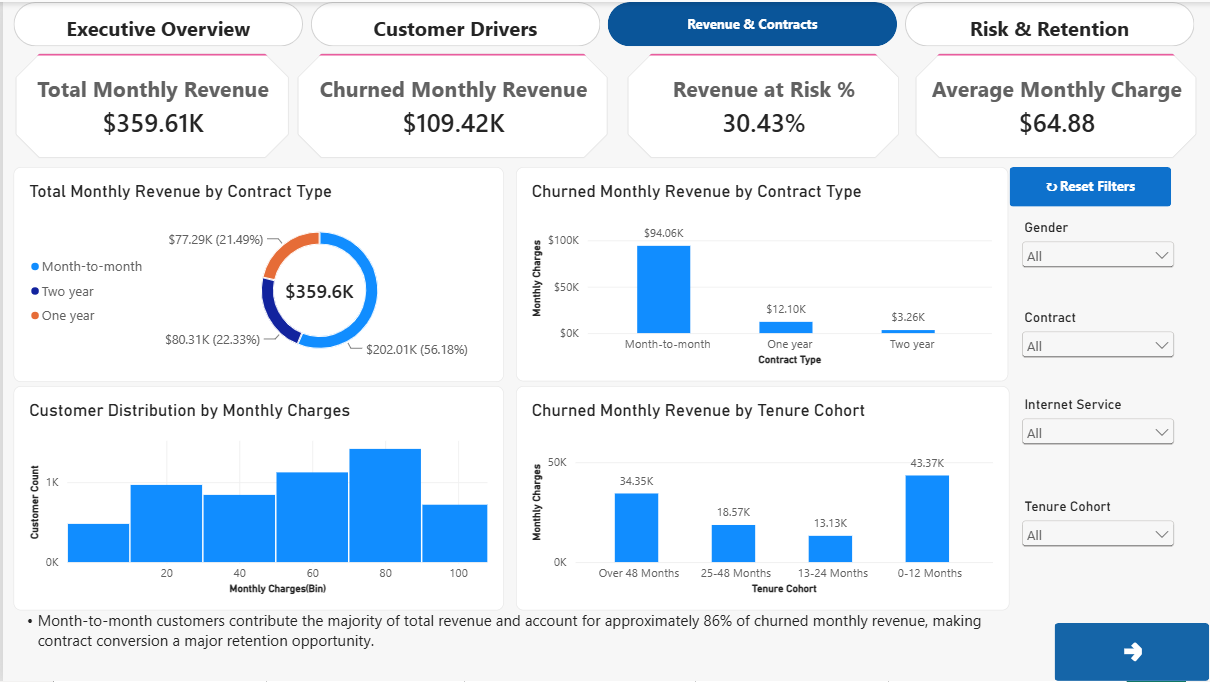

Layout of this report page (visuals, bound fields, positions):
{"tool":"powerbi","page":{"name":"Revenue & Contracts","canvas":[1280,720],"ordinal":2},"visuals":[{"type":"cardVisual","title":"Total Monthly Revenue","fields":{"Data":["_Measures.Total Monthly Revenue"]},"box":[12.2,54.2,291.1,112.9],"z":0},{"type":"cardVisual","title":"Churned Monthly Revenue","fields":{"Data":["_Measures.Churned Monthly Revenue"]},"box":[311.2,54.2,330.8,112.9],"z":1000},{"type":"cardVisual","title":"Revenue at Risk %","fields":{"Data":["_Measures.Revenue at Risk %"]},"box":[661.2,54.2,289.5,112.9],"z":2000},{"type":"cardVisual","title":"Average Monthly Charge","fields":{"Data":["_Measures.Average Monthly Charge"]},"box":[966.6,54.2,299,112.9],"z":3000},{"type":"donutChart","title":"Total Monthly Revenue by Contract Type","fields":{"Category":["telecom_churn vw_customer_churn_analysis.contract_type"],"Y":["_Measures.Total Monthly Revenue"]},"box":[11.1,175,520.1,228],"z":4000},{"type":"clusteredColumnChart","title":"Churned Monthly Revenue by Contract Type","fields":{"Category":["telecom_churn vw_customer_churn_analysis.contract_type"],"Y":["_Measures.Churned Monthly Revenue"]},"box":[544,175,521.7,227.5],"z":5000},{"type":"clusteredColumnChart","title":"Churned Monthly Revenue by Tenure Cohort","fields":{"Y":["_Measures.Churned Monthly Revenue"],"Category":["telecom_churn vw_customer_churn_analysis.tenure_cohort"]},"box":[544.1,406.4,523,238],"z":6000},{"type":"clusteredColumnChart","title":"Customer Distribution by Monthly Charges","fields":{"Category":["telecom_churn vw_customer_churn_analysis.monthly_charges (bins)"],"Y":["CountNonNull(telecom_churn vw_customer_churn_analysis.customer_id)"]},"box":[11.3,406.4,519.8,238],"z":7000},{"type":"pageNavigator","box":[11.1,0,1253.4,47.7],"z":8000},{"type":"actionButton","box":[1115.6,659,165.2,61.5],"z":9000},{"type":"textbox","box":[13,644.5,1062.2,76.1],"z":10000},{"type":"slicer","title":"Gender","fields":{"Values":["telecom_churn vw_customer_churn_analysis.Gender"]},"box":[1075.2,229.9,171.6,81],"z":11000},{"type":"slicer","title":"Gender","fields":{"Values":["telecom_churn vw_active_customer_risk.contract_type"]},"box":[1075.2,325.5,171.6,81],"z":12000},{"type":"slicer","title":"Gender","fields":{"Values":["telecom_churn vw_active_customer_risk.internet_service"]},"box":[1075.2,417.8,171.6,81],"z":13000},{"type":"slicer","title":"Gender","fields":{"Values":["telecom_churn vw_active_customer_risk.tenure_cohort"]},"box":[1075.2,526.2,171.6,81],"z":14000},{"type":"actionButton","box":[1067.1,174.9,171.6,42.1],"z":15000}]}

Visuals, with their boxes in screenshot pixels (x1, y1, x2, y2), scaled from the page's 1280x720 canvas onto the 1210x682 screenshot:
"Total Monthly Revenue" cardVisual: rect(12, 51, 287, 158)
"Churned Monthly Revenue" cardVisual: rect(294, 51, 607, 158)
"Revenue at Risk %" cardVisual: rect(625, 51, 899, 158)
"Average Monthly Charge" cardVisual: rect(914, 51, 1196, 158)
"Total Monthly Revenue by Contract Type" donutChart: rect(10, 166, 502, 382)
"Churned Monthly Revenue by Contract Type" clusteredColumnChart: rect(514, 166, 1007, 381)
"Churned Monthly Revenue by Tenure Cohort" clusteredColumnChart: rect(514, 385, 1009, 610)
"Customer Distribution by Monthly Charges" clusteredColumnChart: rect(11, 385, 502, 610)
pageNavigator: rect(10, 0, 1195, 45)
actionButton: rect(1055, 624, 1209, 681)
textbox: rect(12, 610, 1016, 681)
"Gender" slicer: rect(1016, 218, 1179, 294)
"Gender" slicer: rect(1016, 308, 1179, 385)
"Gender" slicer: rect(1016, 396, 1179, 472)
"Gender" slicer: rect(1016, 498, 1179, 575)
actionButton: rect(1009, 166, 1171, 206)
